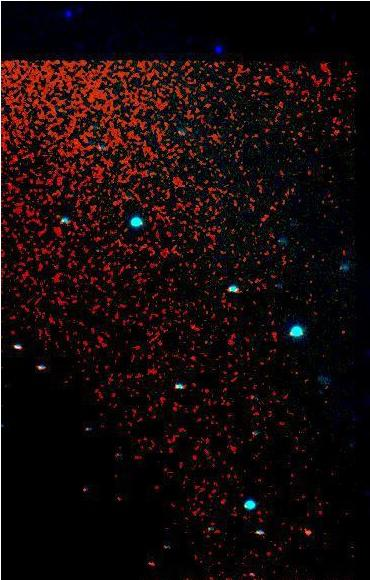star: (294, 520, 324, 550)
